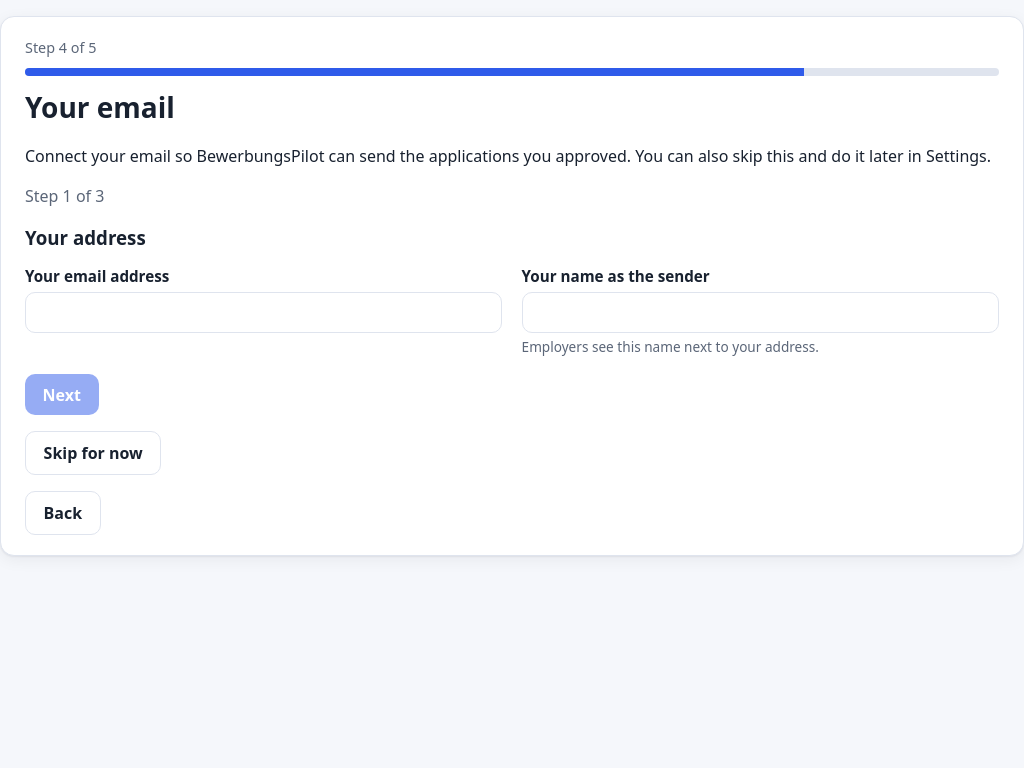
OnboardingWizard › lets the user skip the email step
Click the button "Skip for now": {"x": 93, "y": 453} [25,431,161,475]
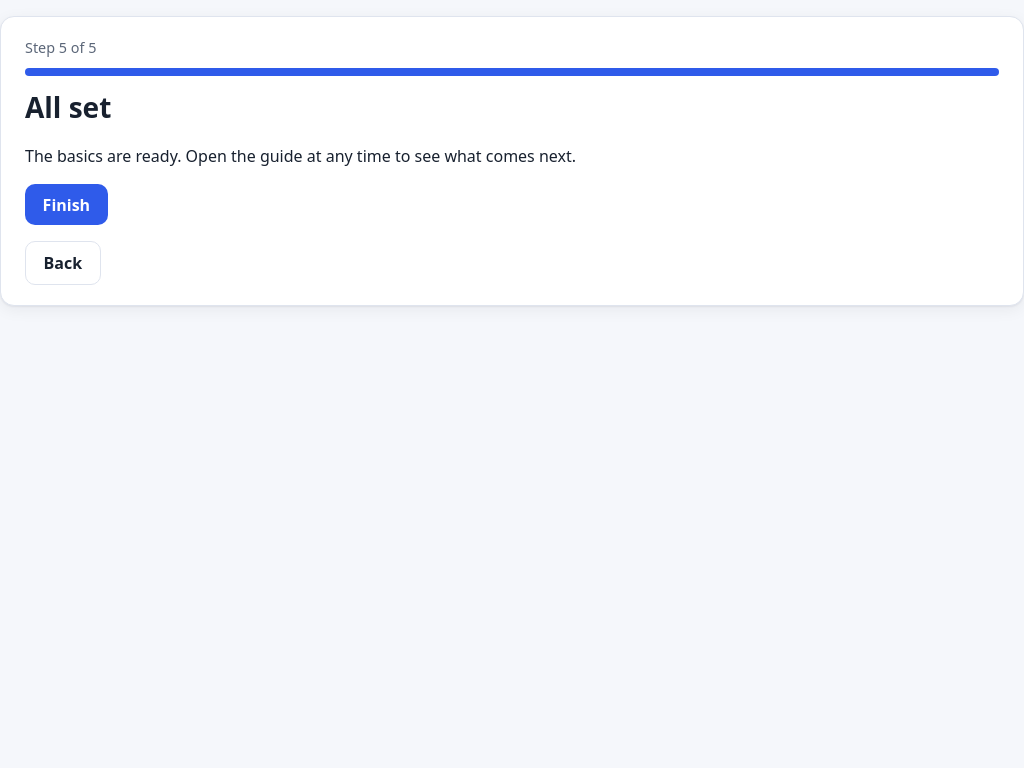
Now the text "Step 5 of 5" is shown, box [25,38,96,57]
